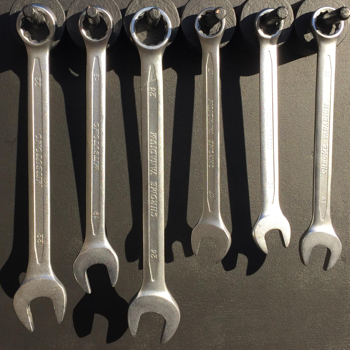bottom: (12, 272, 68, 334), (125, 288, 184, 344), (72, 245, 120, 293), (189, 218, 232, 266), (299, 228, 343, 270), (250, 215, 294, 254)
top: (14, 2, 60, 49), (128, 5, 172, 53), (76, 6, 114, 44), (309, 6, 346, 41), (192, 6, 228, 41), (253, 5, 284, 44)
